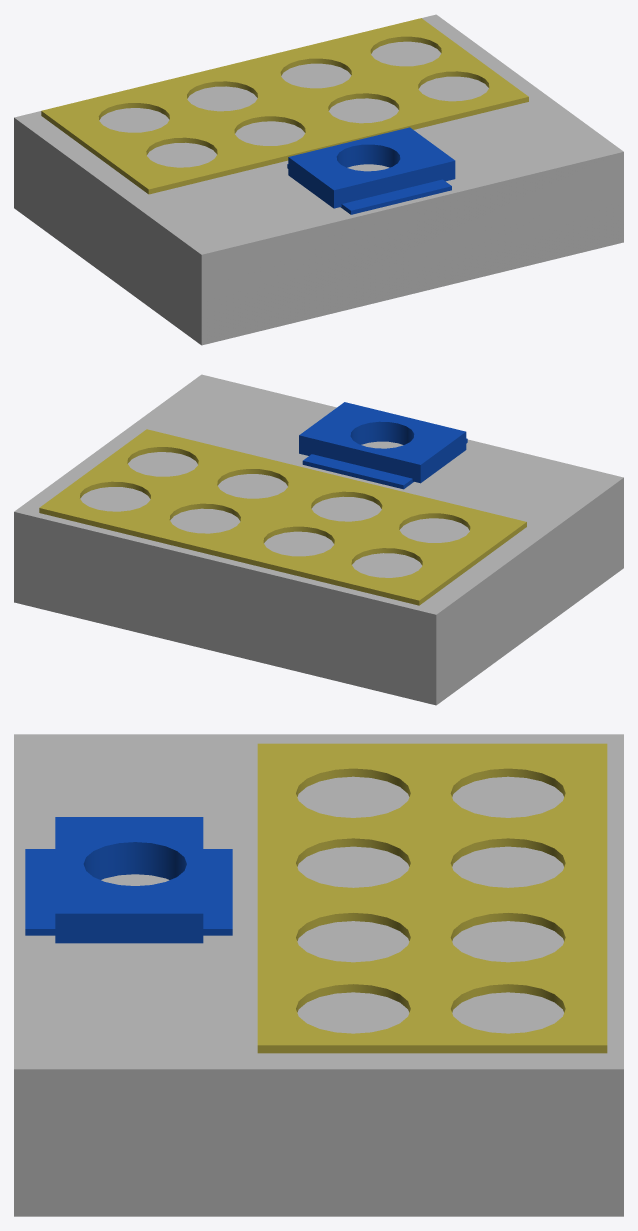
Rendered from Mesa E.fbx.
3 views of the same model, one above another, from view 1: azimuth 30°, elevation 25°; view 2: azimuth 150°, elevation 25°; view 3: azimuth 270°, elevation 25° (orthographic). The views are drawn at different scales.
Parts seen in each view (by area): view 1: pasted__pCube117, polySurface1, polySurface2; view 2: pasted__pCube117, polySurface1, polySurface2; view 3: pasted__pCube117, polySurface1, polySurface2.
Part boxes in pixels (<box>): pasted__pCube117: <box>14,14,623,345</box>; polySurface1: <box>41,18,528,194</box>; polySurface2: <box>287,127,455,214</box>; pasted__pCube117: <box>14,374,623,705</box>; polySurface1: <box>39,429,526,605</box>; polySurface2: <box>299,402,467,489</box>; pasted__pCube117: <box>14,734,623,1216</box>; polySurface1: <box>257,743,607,1053</box>; polySurface2: <box>25,817,232,943</box>.
Size of the model in its own units: 19.5 by 4.87 by 15.
